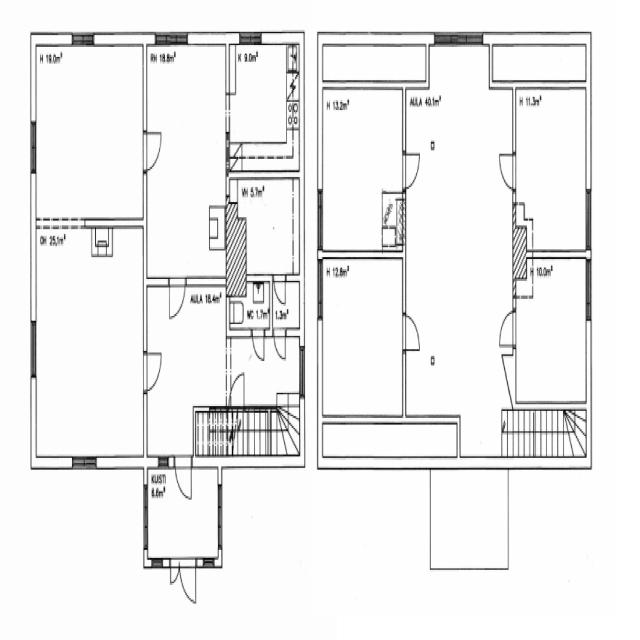door: (169, 553, 199, 604), (495, 305, 519, 354), (400, 308, 423, 358), (173, 450, 194, 504), (141, 347, 164, 394), (142, 125, 164, 174), (167, 274, 188, 323), (496, 148, 518, 194), (401, 148, 422, 190), (228, 366, 246, 405), (250, 325, 266, 365), (273, 326, 288, 364), (273, 272, 288, 308)
window: (90, 27, 146, 53), (185, 28, 231, 51), (317, 320, 327, 406), (583, 183, 594, 253), (584, 253, 594, 322), (29, 319, 38, 381), (72, 454, 98, 471), (29, 122, 38, 167)
zone: (404, 77, 516, 418), (32, 224, 147, 460), (32, 41, 146, 222), (144, 38, 228, 278), (144, 282, 231, 459), (319, 86, 405, 254), (320, 256, 405, 421), (513, 88, 589, 254), (514, 259, 589, 406), (225, 40, 298, 170), (428, 471, 511, 573), (227, 176, 301, 280), (146, 465, 220, 563), (227, 280, 272, 332), (270, 277, 302, 336)
